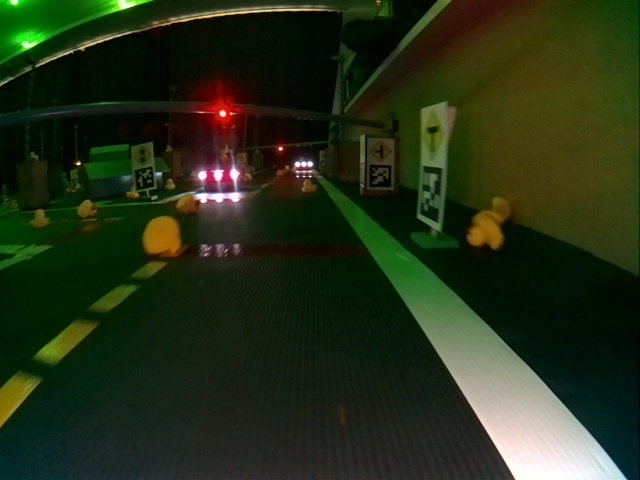Duckie: (143, 216, 181, 253), (467, 219, 502, 250), (481, 196, 510, 226), (175, 195, 200, 214), (30, 209, 48, 228), (78, 200, 96, 216), (303, 180, 316, 191), (128, 188, 139, 198), (165, 180, 173, 188)
Duckiebot: (199, 167, 241, 190), (295, 159, 312, 169)
Intersection sign: (422, 109, 444, 160), (369, 140, 393, 163)
QR code: (417, 168, 442, 226), (370, 166, 393, 189), (135, 170, 155, 190)
Signal sign: (132, 146, 152, 164)
Traffic light: (215, 104, 231, 121), (277, 145, 285, 153)
